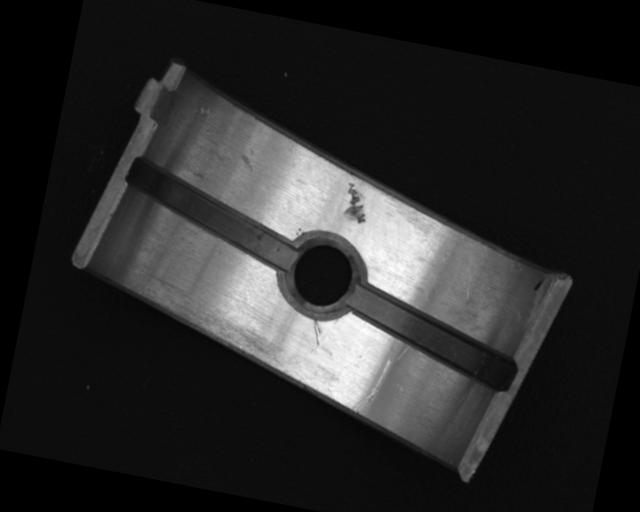blot: (532, 274, 546, 293)
bruise: (339, 181, 373, 226), (237, 146, 257, 172), (196, 104, 211, 117)
gap: (113, 156, 307, 275), (337, 279, 526, 393)
hole: (276, 229, 369, 323)
nick: (352, 352, 393, 418), (309, 319, 324, 346)
scratch: (110, 264, 294, 383)
